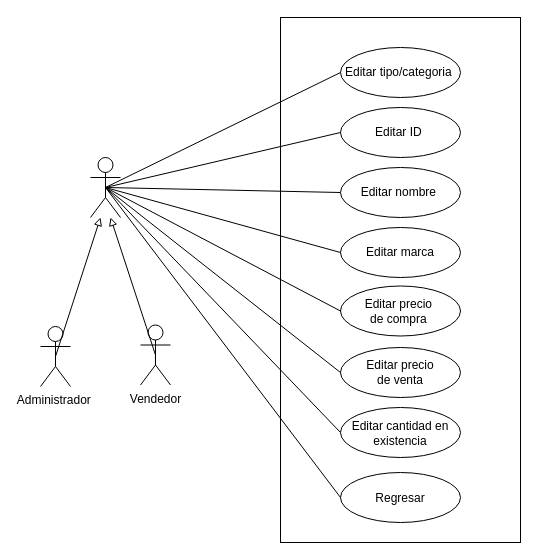
The diagram is 538 pixels wide and 560 high, and some of its shapes have lost their labels. The box of each missing label's shape, as (x1, y1, x2, y2) in pixels:
<abstract> Usuario: (90, 156, 120, 218)
Interfaz de modificación de productos: (280, 16, 520, 542)
